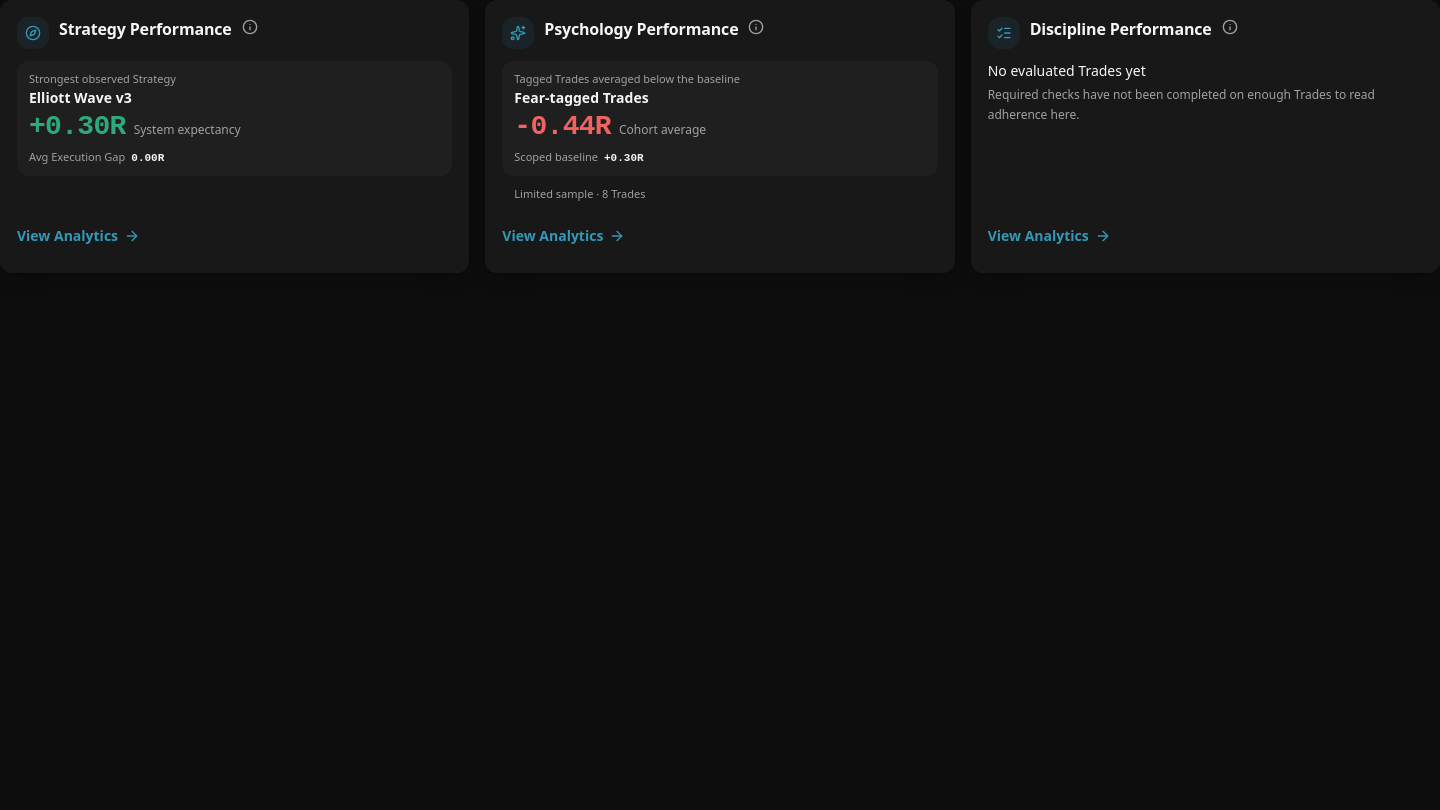
Scenario: Psychology pillar copy › keeps the overlapping-cohort note reachable from the info popover
The width and height of the screenshot is (1440, 810).
Click the button named "About Psychology Performance": (756, 27) [742,13,770,41]
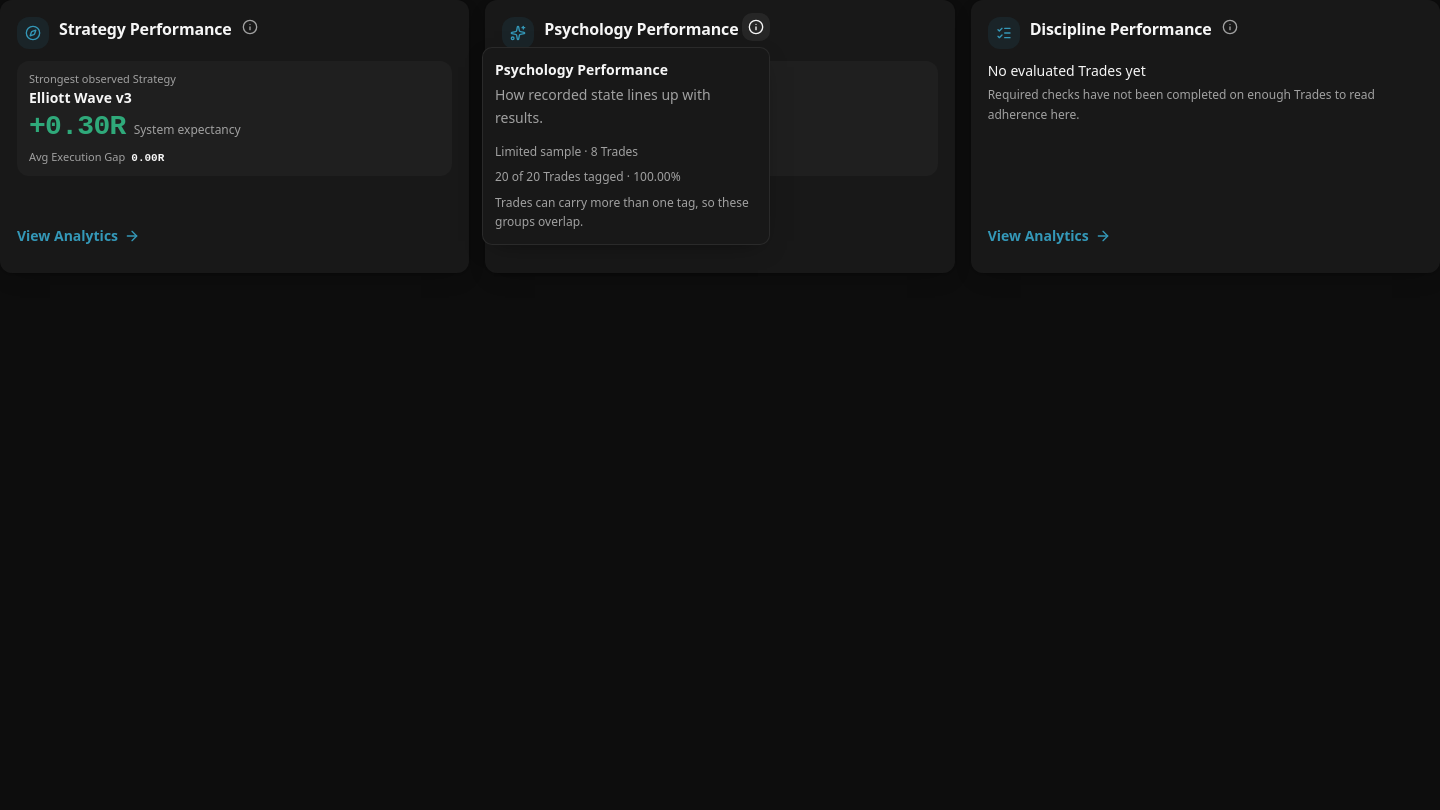
Now the text "Trades can carry more than one tag, so these groups overlap." is shown, box [495,192,757,232]
